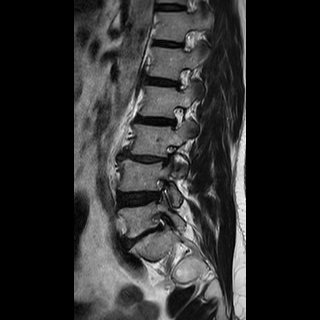LFS0: (161, 102, 189, 138), (167, 63, 194, 98)
LFS3: (152, 139, 181, 175), (145, 175, 173, 207)
